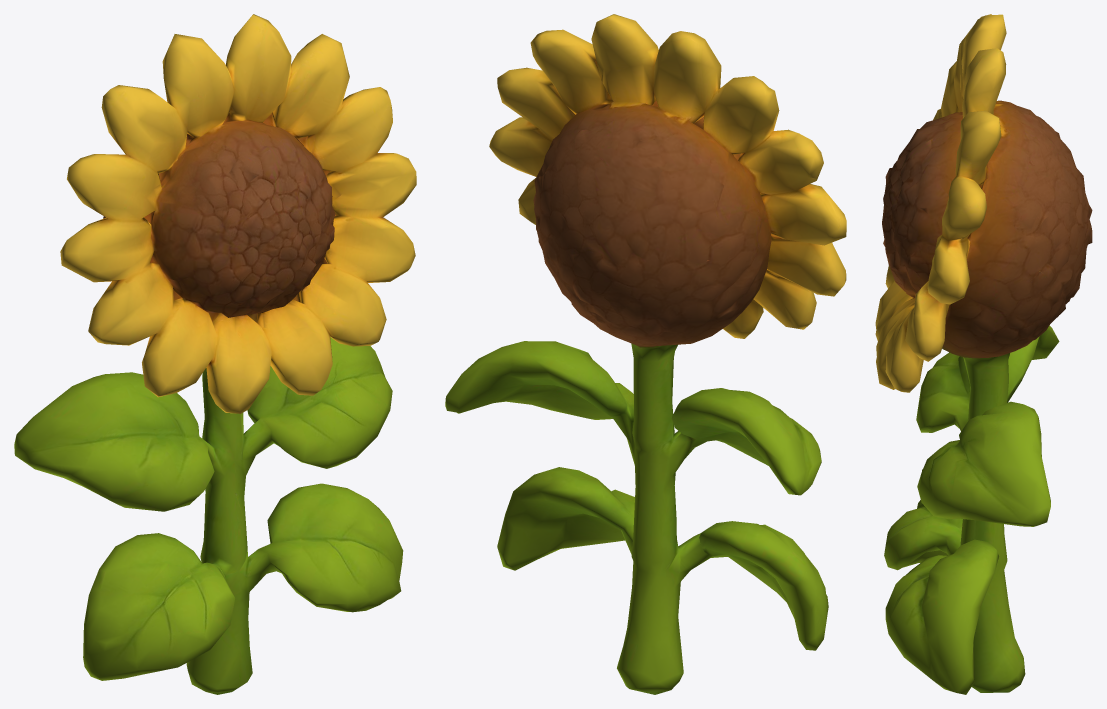
The model's file is sunflower_s5.glb.
3 renders of one model, left to right at view 1: azimuth 30°, elevation 25°; view 2: azimuth 150°, elevation 25°; view 3: azimuth 270°, elevation 25°, orthographic.
Visible parts, largest first — view 1: tripo_node_431c7159-05c8-47d5-ad2f-af2e71c65e18; view 2: tripo_node_431c7159-05c8-47d5-ad2f-af2e71c65e18; view 3: tripo_node_431c7159-05c8-47d5-ad2f-af2e71c65e18.
Part boxes in pixels (x1,y1,x2,y2): tripo_node_431c7159-05c8-47d5-ad2f-af2e71c65e18: [14, 14, 416, 694]; tripo_node_431c7159-05c8-47d5-ad2f-af2e71c65e18: [445, 14, 846, 694]; tripo_node_431c7159-05c8-47d5-ad2f-af2e71c65e18: [875, 14, 1092, 694].
Bounding box in the file's own units: 0.5699 × 1 × 0.3001.
Materials: 1 (1 with a texture image).
